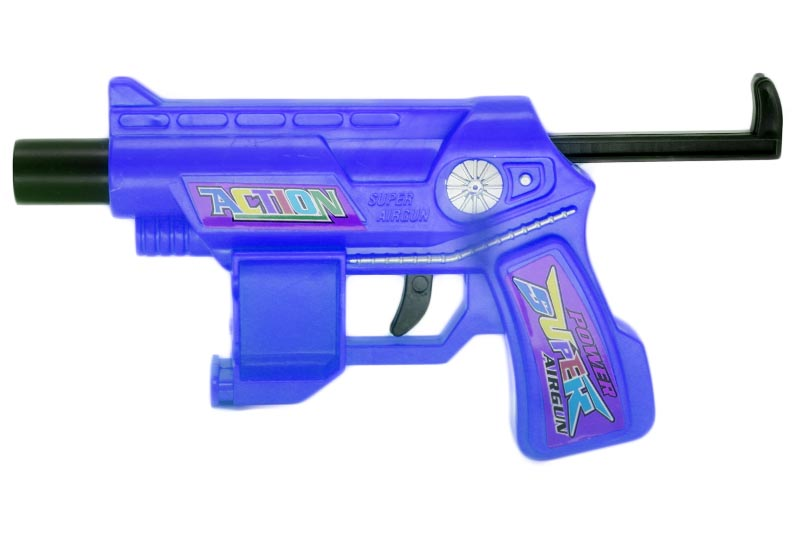Arma Falsa: (13, 70, 786, 464)
